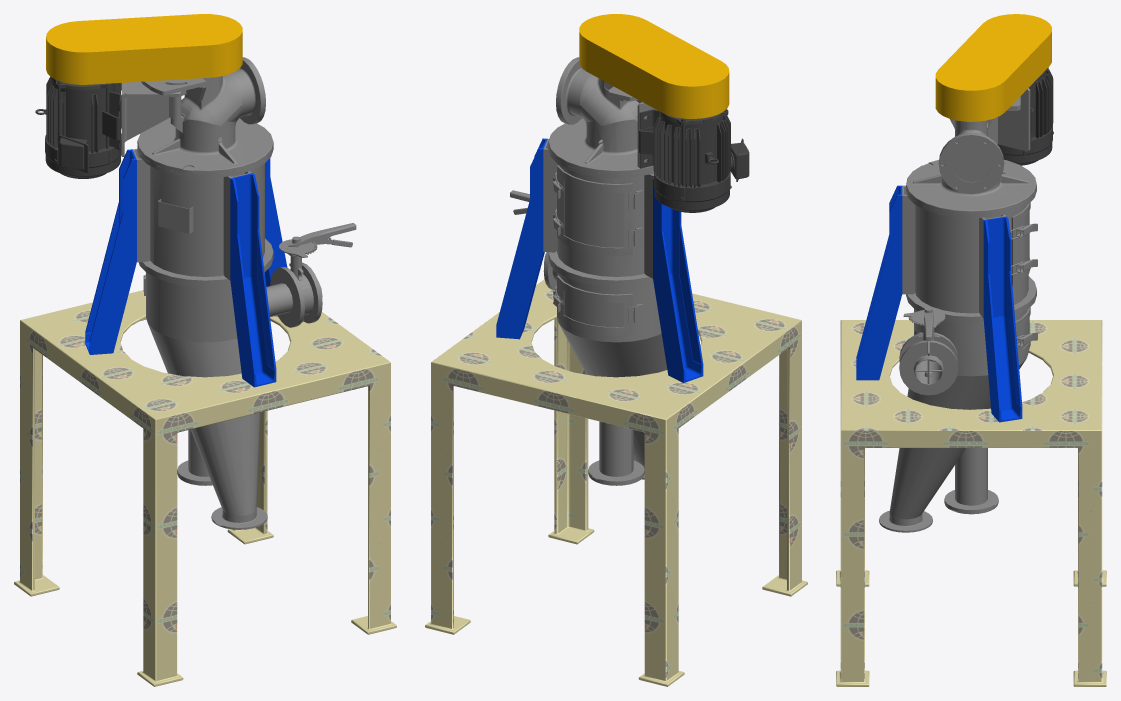
3 views of the same model, side by side, from view 1: azimuth 30°, elevation 25°; view 2: azimuth 150°, elevation 25°; view 3: azimuth 270°, elevation 25° (orthographic). The views are drawn at different scales.
Parts seen in each view (by area): view 1: フランジ(F-120), 架台, スタンド(216049D_2).2, ベルトカバー, ___(3_7kW_2P______\_X0\); view 2: 架台, フランジ(F-120), ベルトカバー, スタンド(216049D_2).2, ___(3_7kW_2P______\_X0\); view 3: フランジ(F-120), 架台, スタンド(216049D_2).2, ベルトカバー, ___(3_7kW_2P______\_X0\).
Part boxes in pixels (x1=…): フランジ(F-120): x1=121, y1=57, x2=356, y2=529; 架台: x1=14, y1=290, x2=396, y2=686; スタンド(216049D_2).2: x1=85, y1=149, x2=287, y2=387; ベルトカバー: x1=46, y1=14, x2=242, y2=84; ___(3_7kW_2P______\_X0\): x1=35, y1=76, x2=121, y2=178; 架台: x1=425, y1=279, x2=807, y2=686; フランジ(F-120): x1=510, y1=57, x2=667, y2=485; ベルトカバー: x1=579, y1=14, x2=729, y2=118; スタンド(216049D_2).2: x1=496, y1=138, x2=703, y2=382; ___(3_7kW_2P______\_X0\): x1=639, y1=109, x2=749, y2=212; フランジ(F-120): x1=879, y1=88, x2=1037, y2=532; 架台: x1=836, y1=320, x2=1106, y2=686; スタンド(216049D_2).2: x1=856, y1=185, x2=1022, y2=422; ベルトカバー: x1=935, y1=14, x2=1051, y2=121; ___(3_7kW_2P______\_X0\): x1=997, y1=67, x2=1053, y2=165.
Bounding box in the file's own units: 0.9046 × 1.87 × 0.825.
5 materials, 1 textured.
